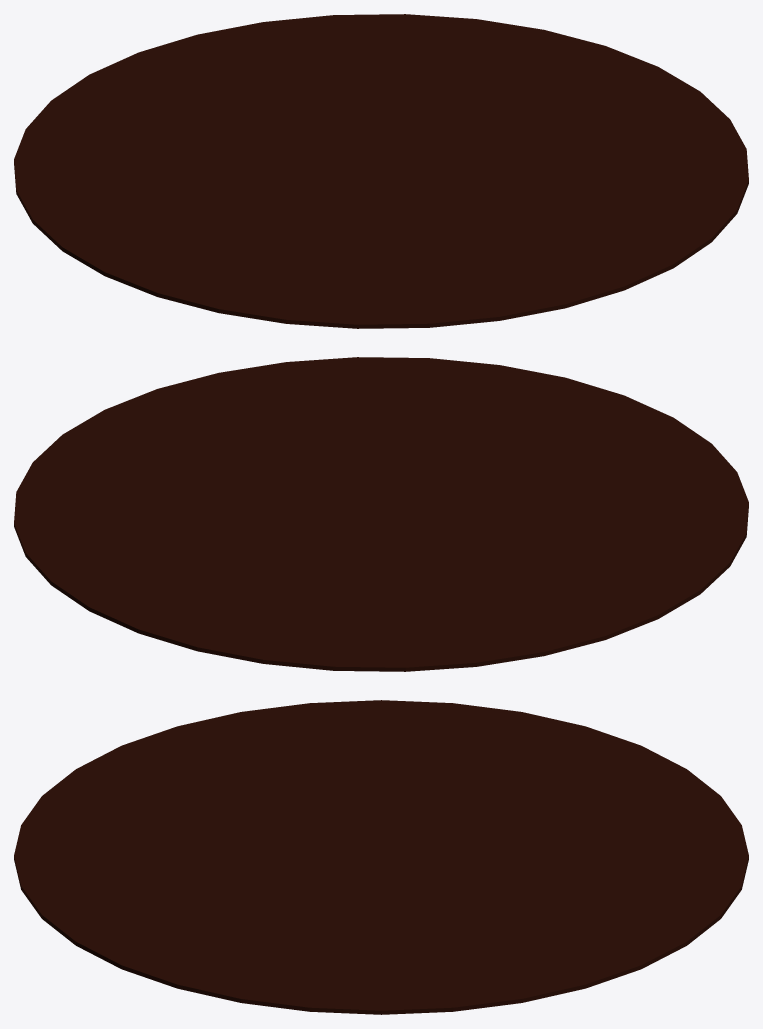
The model's file is salami.FBX.
3 views of the same model, one above another, from view 1: azimuth 30°, elevation 25°; view 2: azimuth 150°, elevation 25°; view 3: azimuth 270°, elevation 25° (orthographic).
Parts seen in each view (by area): view 1: Pastrami; view 2: Pastrami; view 3: Pastrami.
Part boxes in pixels (bbox=[...]): Pastrami: bbox=[14, 14, 748, 328]; Pastrami: bbox=[14, 357, 748, 671]; Pastrami: bbox=[14, 700, 748, 1014].
Size of the model in its own units: 0.00109 by 6.67e-06 by 0.00109.
